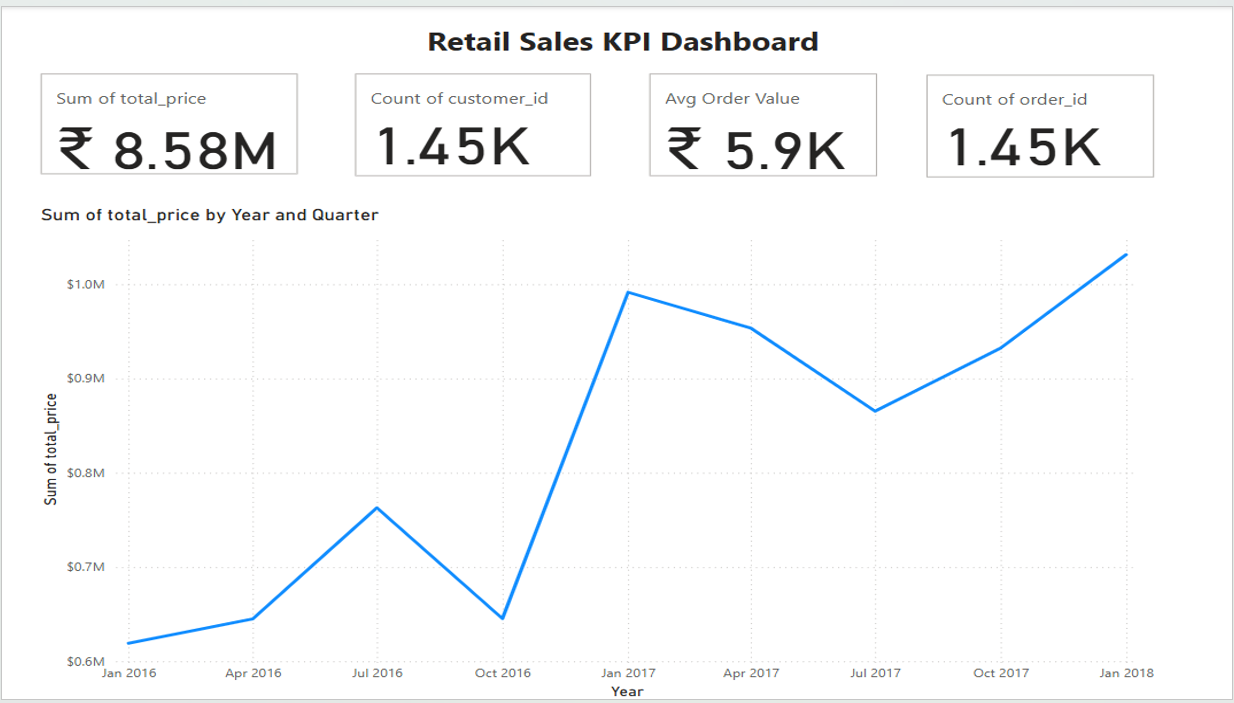

The dashboard page shown, as its layout file describes it:
{"tool":"powerbi","page":{"name":"Retail Sales KPI Dashboard","canvas":[1280,720],"ordinal":7},"visuals":[{"type":"cardVisual","fields":{"Data":["Sum(order_items.total_price)"]},"box":[91.7,64.8,229.9,114.9],"z":0},{"type":"cardVisual","fields":{"Data":["CountNonNull(orders.order_id)"]},"box":[846.2,66,204.2,116.2],"z":1000},{"type":"cardVisual","fields":{"Data":["order_items.Avg Order Value"]},"box":[610.2,64.8,204.2,116.2],"z":2000},{"type":"cardVisual","fields":{"Data":["Count(customers.customer_id)"]},"box":[359.5,64.8,211.6,116.2],"z":3000},{"type":"lineChart","fields":{"Category":["orders.order_date.Variation.Date Hierarchy.Year","orders.order_date.Variation.Date Hierarchy.Quarter"],"Y":["Sum(order_items.total_price)"]},"box":[91.7,205.4,958.7,514.8],"z":4000},{"type":"textbox","box":[420.7,12.2,384,52.6],"z":5000}]}

Visuals, with their boxes in screenshot pixels (x1, y1, x2, y2), scaled from the page's 1280x720 canvas onto the 1234x703 screenshot:
cardVisual - Sum(order_items.total_price): box=[88, 63, 310, 175]
cardVisual - CountNonNull(orders.order_id): box=[816, 64, 1013, 178]
cardVisual - order_items.Avg Order Value: box=[588, 63, 785, 177]
cardVisual - Count(customers.customer_id): box=[347, 63, 551, 177]
lineChart - orders.order_date.Variation.Date Hierarchy.Year x orders.order_date.Variation.Date Hierarchy.Quarter: box=[88, 201, 1013, 702]
textbox: box=[406, 12, 776, 63]
